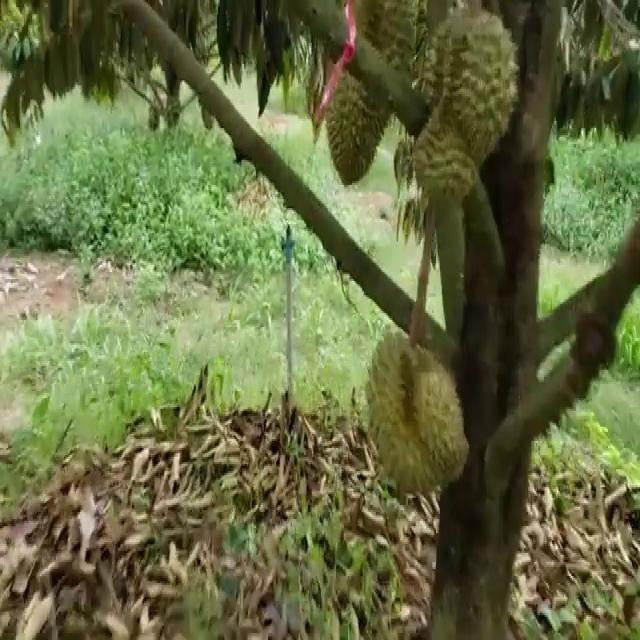durian: (407, 5, 523, 214), (361, 320, 473, 498), (322, 36, 404, 190)
